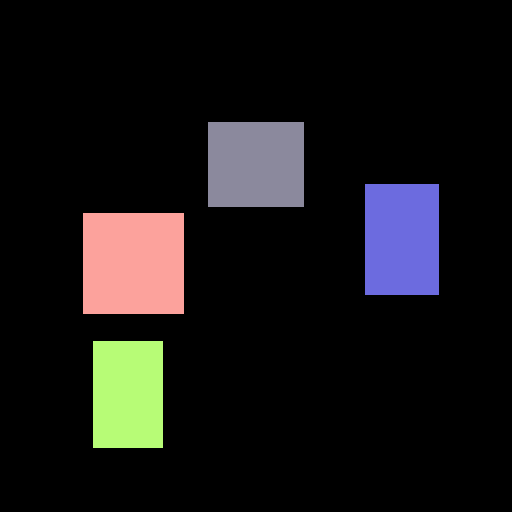rectangle: (365, 184, 438, 294), (208, 122, 303, 206), (93, 341, 162, 447)
square: (83, 213, 183, 313)
